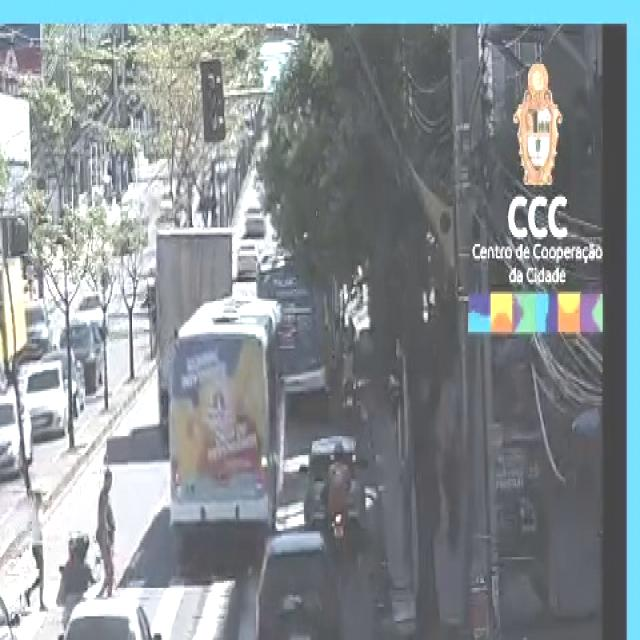car: (250, 535, 348, 640), (22, 358, 78, 448), (51, 609, 165, 640), (0, 393, 31, 479), (0, 592, 28, 640)
people: (96, 472, 127, 600), (22, 477, 49, 622)
truck: (162, 290, 286, 564), (155, 225, 237, 468), (0, 253, 33, 393)
